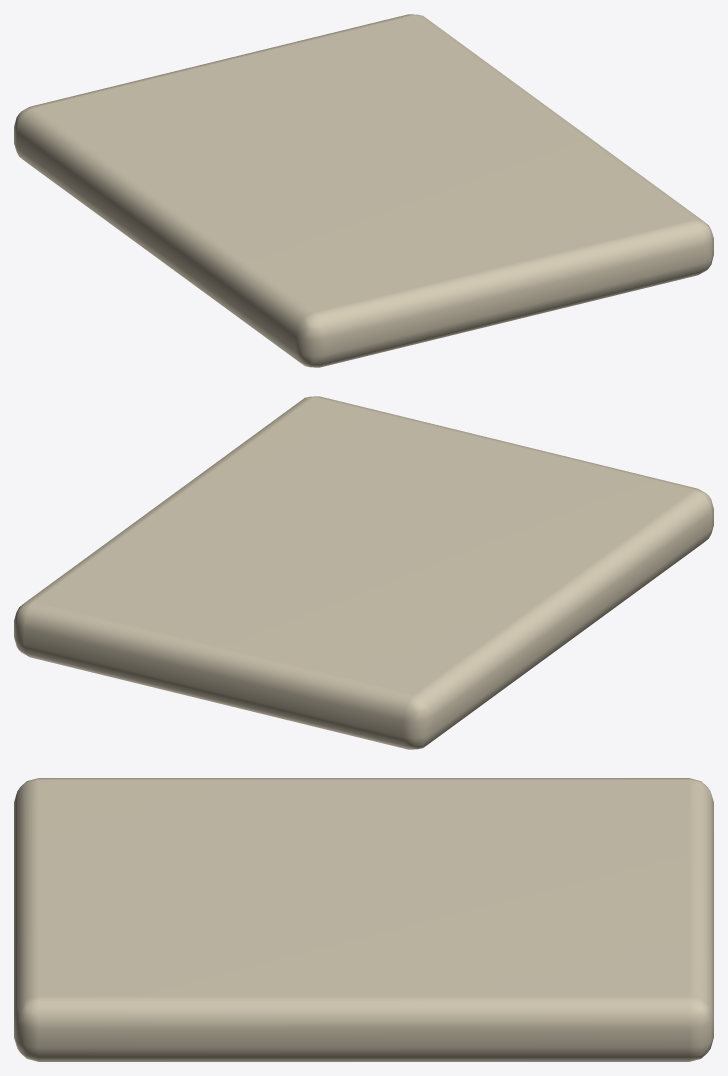
Rendered from mattress-160.glb.
3 views of the same model, one above another, from view 1: azimuth 30°, elevation 25°; view 2: azimuth 150°, elevation 25°; view 3: azimuth 270°, elevation 25° (orthographic). The views are drawn at different scales.
Parts seen in each view (by area): view 1: mattress-160 / 17 / oatmeal linen; view 2: mattress-160 / 17 / oatmeal linen; view 3: mattress-160 / 17 / oatmeal linen.
Boxes of the visible parts, left/top/right/bottom form: mattress-160 / 17 / oatmeal linen: left=14, top=14, right=713, bottom=367; mattress-160 / 17 / oatmeal linen: left=14, top=396, right=713, bottom=749; mattress-160 / 17 / oatmeal linen: left=14, top=778, right=713, bottom=1061.
Bounding box in the file's own units: 1.6 × 0.2 × 2.
